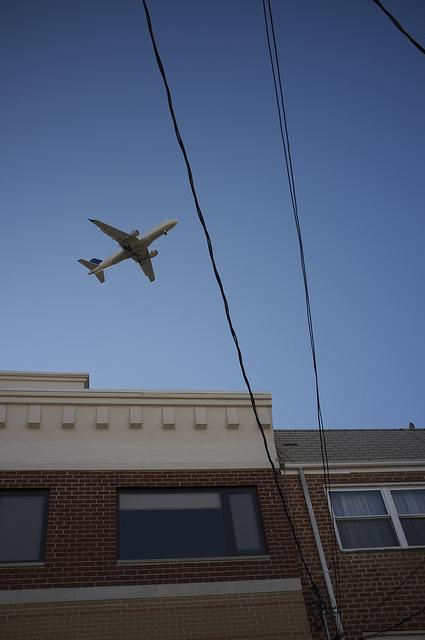airplane: (76, 213, 181, 286)
